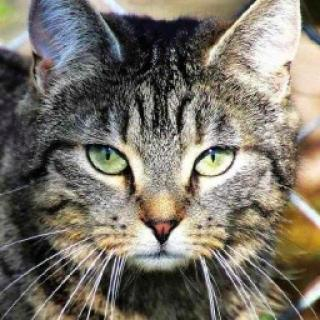cat: (26, 0, 308, 294)
nose: (135, 177, 192, 246)
